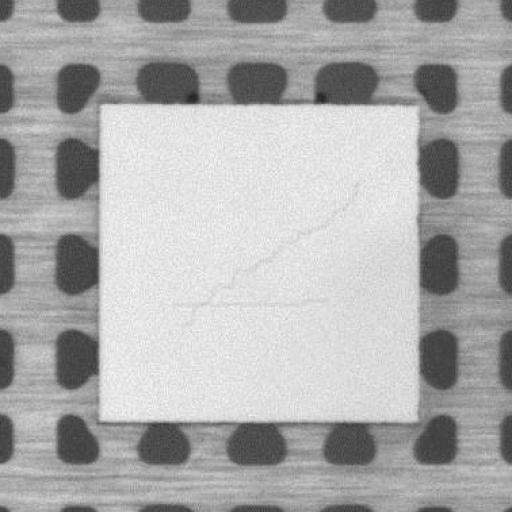DIE_CRACK: (170, 182, 360, 327)
